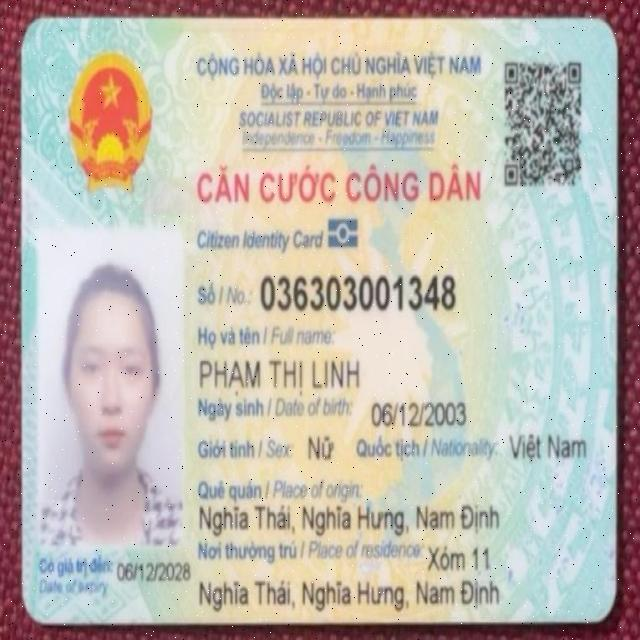current_place: (197, 569, 503, 610), (425, 538, 495, 575)
dob: (367, 397, 469, 428)
expire_date: (114, 557, 194, 584)
gender: (303, 429, 338, 462)
id: (259, 270, 459, 313)
name: (196, 352, 364, 396)
nationality: (506, 430, 589, 464)
origin_place: (197, 501, 503, 538)
qr: (501, 54, 586, 194)
